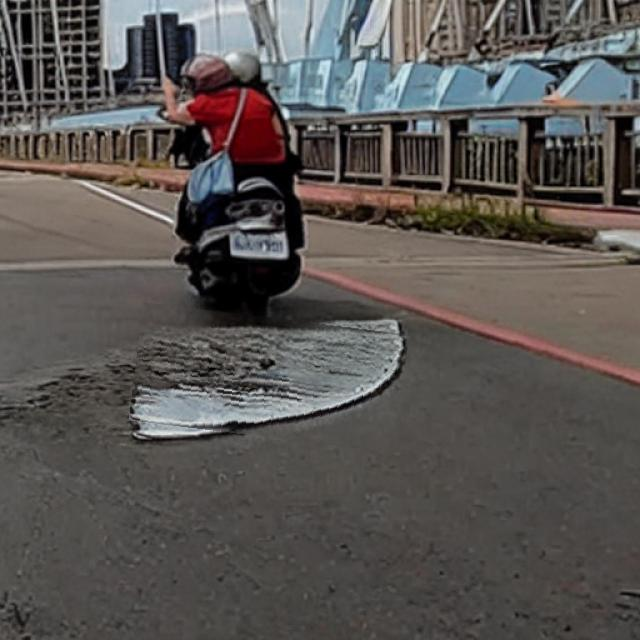puddle: (134, 311, 408, 446)
